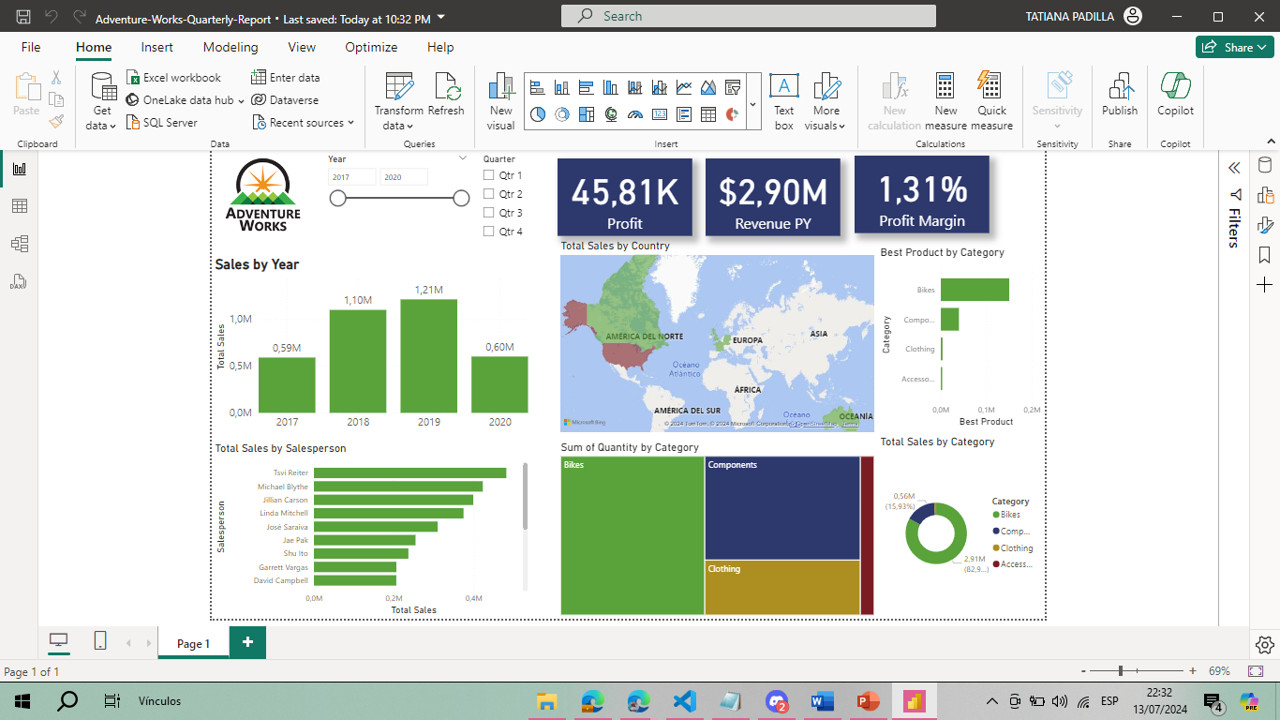

The page's visual inventory and layout, read from the dashboard file:
{"tool":"powerbi","page":{"name":"Page 1","canvas":[1280,720],"ordinal":0},"visuals":[{"type":"image","box":[10.1,0,136.8,136.8],"z":0},{"type":"clusteredColumnChart","title":"Sales by Year","fields":{"Y":["Key Measures.Total Sales"],"Category":["Sales.OrderDate.Variation.Date Hierarchy.Year"]},"box":[0,162.3,491.4,276],"z":1000},{"type":"donutChart","fields":{"Y":["Key Measures.Total Sales"],"Category":["Products.Category"]},"box":[1023.1,437.4,256.9,283.3],"z":2000},{"type":"filledMap","fields":{"Category":["Region.Country"]},"box":[531.4,136.5,491.7,300.9],"z":3000},{"type":"clusteredBarChart","fields":{"Y":["Key Measures.Total Sales"],"Category":["Salesperson.Salesperson"]},"box":[0,448,491,272],"z":4000},{"type":"treemap","fields":{"Group":["Products.Category"],"Values":["Sum(Sales.Quantity)"]},"box":[530.8,445.9,491.4,273],"z":5000},{"type":"slicer","fields":{"Values":["Sales.OrderDate.Variation.Date Hierarchy.Year"]},"box":[165.9,0,239.3,162.9],"z":6000},{"type":"slicer","fields":{"Values":["Sales.OrderDate.Variation.Date Hierarchy.Quarter"]},"box":[405.1,0,107.2,146.8],"z":7000},{"type":"clusteredBarChart","fields":{"Y":["Key Measures.Best Product"],"Category":["Products.Category"]},"box":[1023.1,146.8,256.9,283.3],"z":8000},{"type":"card","fields":{"Values":["Key Measures.Profit"]},"box":[531.4,13.2,207,118.9],"z":9000},{"type":"card","fields":{"Values":["Key Measures.Revenue PY"]},"box":[759.5,13,207.5,118.6],"z":10000},{"type":"card","fields":{"Values":["Key Measures.Profit Margin"]},"box":[987.3,9.3,207.5,118.6],"z":11000}]}

Visuals, with their boxes on the page's 1280x720 design canvas (x1, y1, x2, y2). These are canvas units, not pixel positions in the 1280x720 screenshot, which may show the page scaled, cropped or inside an application window:
image: left=10, top=0, right=147, bottom=137
"Sales by Year" clusteredColumnChart: left=0, top=162, right=491, bottom=438
donutChart - Key Measures.Total Sales x Products.Category: left=1023, top=437, right=1280, bottom=721
filledMap - Region.Country: left=531, top=136, right=1023, bottom=437
clusteredBarChart - Key Measures.Total Sales x Salesperson.Salesperson: left=0, top=448, right=491, bottom=720
treemap - Products.Category x Sum(Sales.Quantity): left=531, top=446, right=1022, bottom=719
slicer - Sales.OrderDate.Variation.Date Hierarchy.Year: left=166, top=0, right=405, bottom=163
slicer - Sales.OrderDate.Variation.Date Hierarchy.Quarter: left=405, top=0, right=512, bottom=147
clusteredBarChart - Key Measures.Best Product x Products.Category: left=1023, top=147, right=1280, bottom=430
card - Key Measures.Profit: left=531, top=13, right=738, bottom=132
card - Key Measures.Revenue PY: left=760, top=13, right=967, bottom=132
card - Key Measures.Profit Margin: left=987, top=9, right=1195, bottom=128
